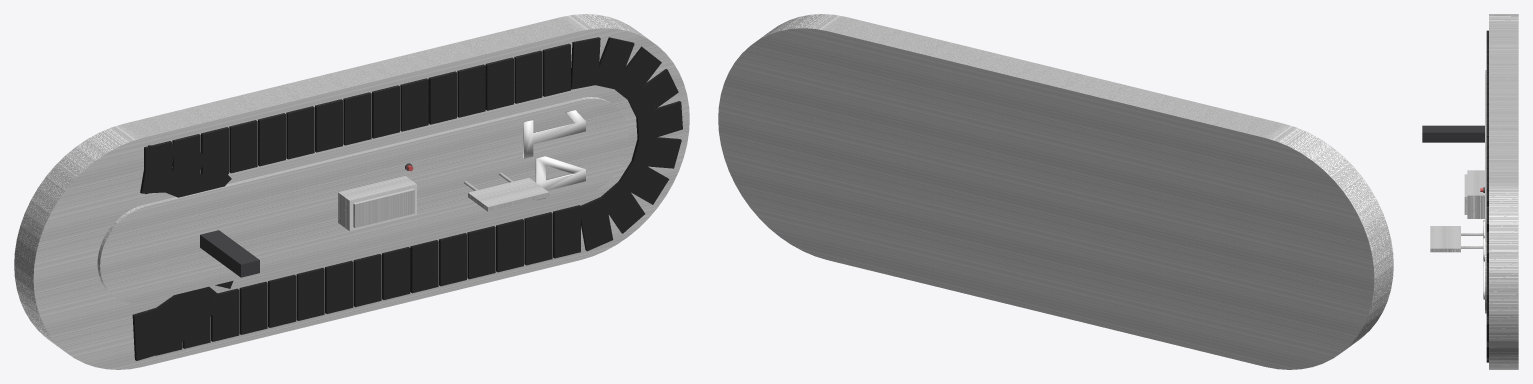
Rendered from Đảo nhận hành lý 14.glb.
The picture shows the model from 3 angles, left to right: view 1: azimuth 30°, elevation 25°; view 2: azimuth 150°, elevation 25°; view 3: azimuth 270°, elevation 25°; orthographic projection. The views are drawn at different scales.
Visible parts, largest first — view 1: conveyor_belt, frame, center_platform, service_box, number_node_14, information_screen_frame, number_sign_body; view 2: frame; view 3: frame, number_sign_body, conveyor_belt, service_box, information_screen_frame, center_platform, number_node_14.
Part boxes in pixels (x1,y1,x2,y2): conveyor_belt: (132, 37, 682, 360); frame: (14, 14, 689, 369); center_platform: (97, 97, 628, 303); service_box: (338, 176, 416, 231); number_node_14: (523, 110, 585, 200); information_screen_frame: (464, 172, 549, 211); number_sign_body: (200, 230, 259, 277); frame: (718, 14, 1393, 369); frame: (1489, 14, 1518, 369); number_sign_body: (1422, 125, 1484, 142); conveyor_belt: (1486, 30, 1488, 362); service_box: (1464, 170, 1484, 218); information_screen_frame: (1430, 226, 1483, 252); center_platform: (1485, 70, 1486, 313); number_node_14: (1483, 220, 1484, 299).
Size of the model in its own units: 18 by 6 by 3.
Materials: 8 (7 with a texture image).
